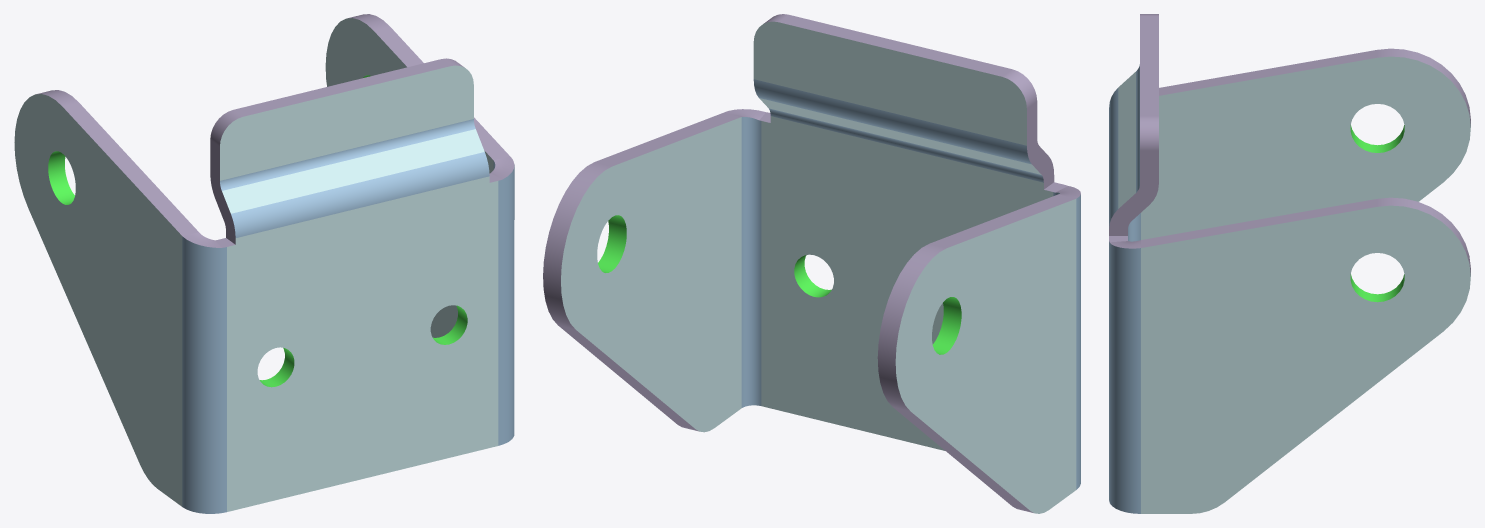
File: ALU_090_Door_LED_Column_Bracket_0-1-1-1_1_colored.glb
3 renders of one model, left to right at view 1: azimuth 30°, elevation 25°; view 2: azimuth 150°, elevation 25°; view 3: azimuth 270°, elevation 25°, orthographic. The views are drawn at different scales.
Parts seen in each view (by area): view 1: Featured solid; view 2: Featured solid; view 3: Featured solid.
Part boxes in pixels (left/top/right/bottom): Featured solid: left=14, top=14, right=514, bottom=513; Featured solid: left=543, top=14, right=1080, bottom=513; Featured solid: left=1109, top=14, right=1470, bottom=513.
Size of the model in its own units: 45.08 by 49.43 by 43.89.
